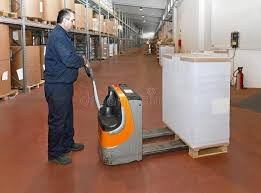Pallet Jack: (80, 54, 231, 166)
